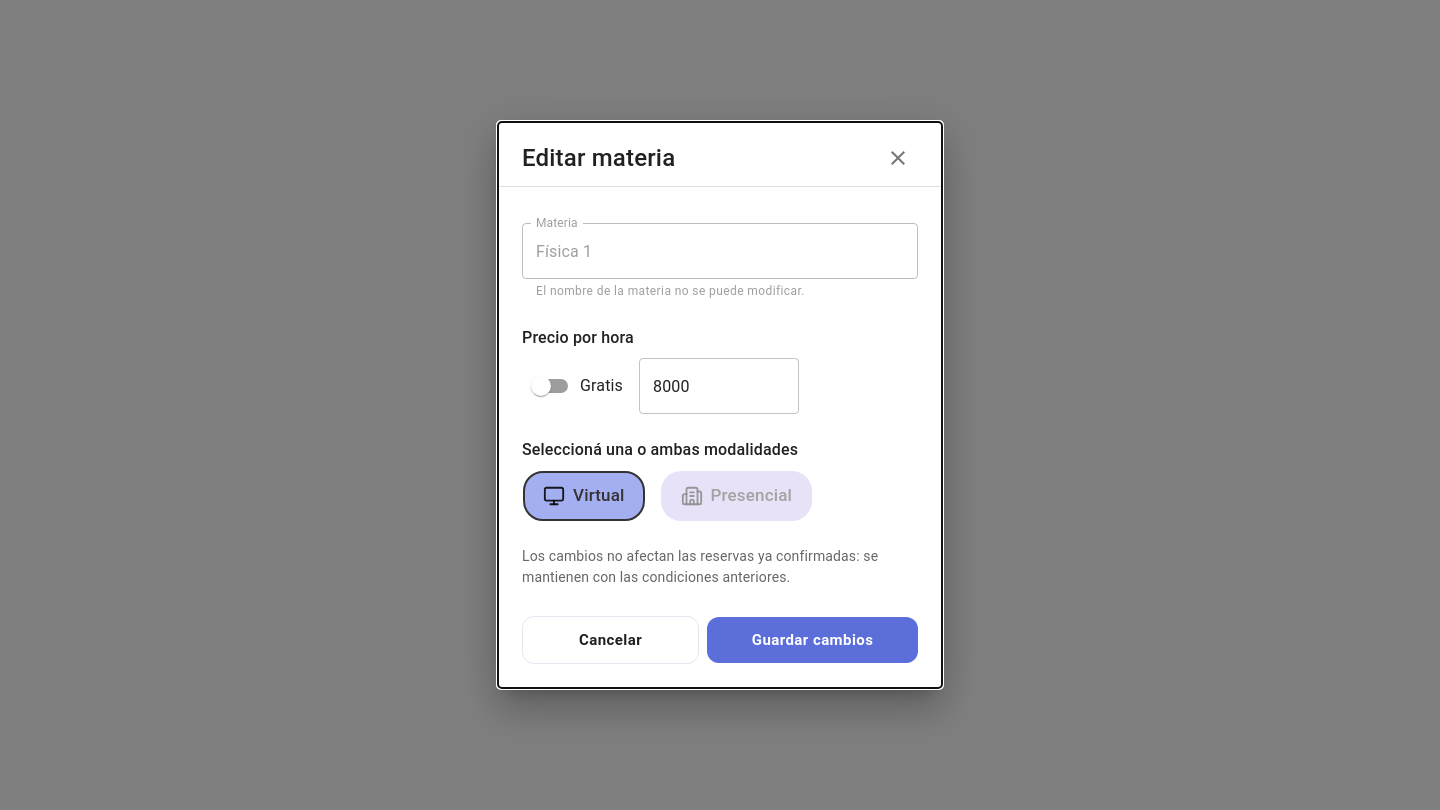
Test case: EditSubjectModal › deshabilita el precio y habilita Guardar cambios al activar Gratis
Click the switch labelled "Gratis": (577, 386) x1=531 y1=376 x2=623 y2=396
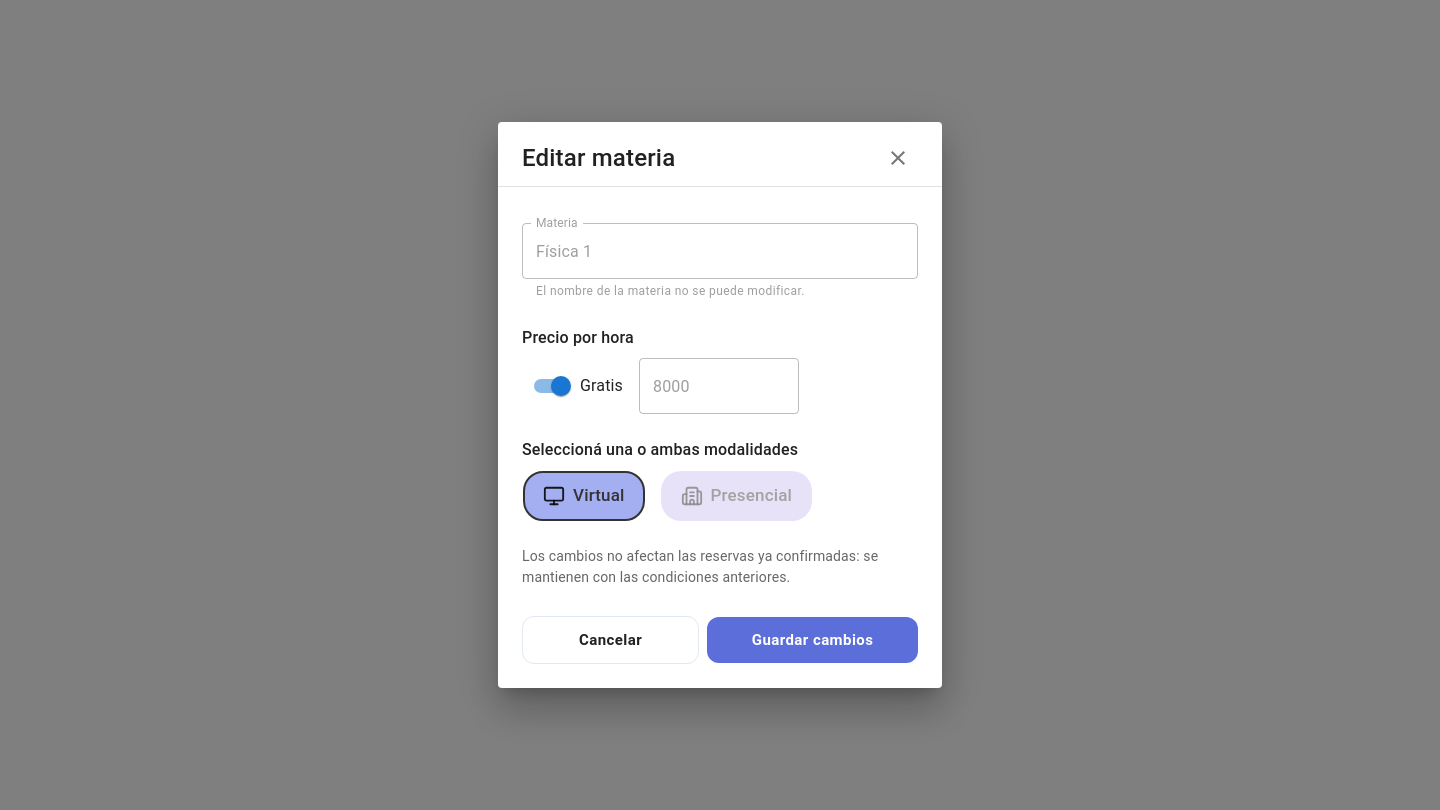
Expected: the button "Guardar cambios" is enabled, x1=707 y1=617 x2=918 y2=663
Expected: the number field named "Precio por hora" is disabled, x1=639 y1=358 x2=799 y2=414
